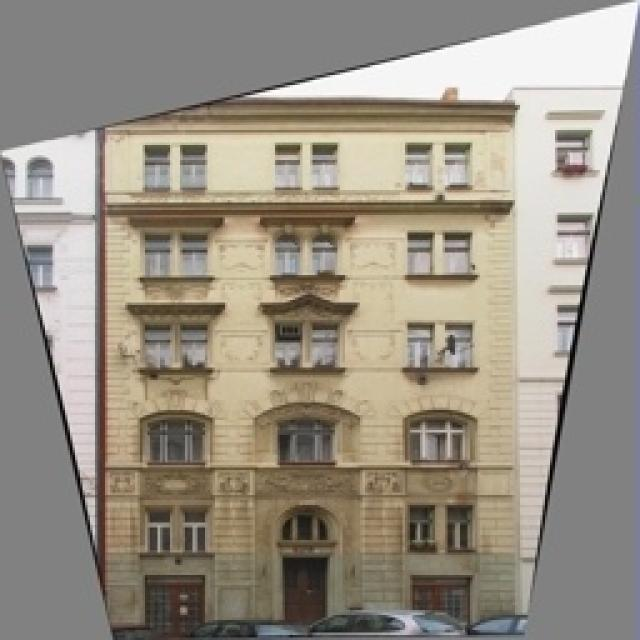building: (100, 65, 532, 640)
